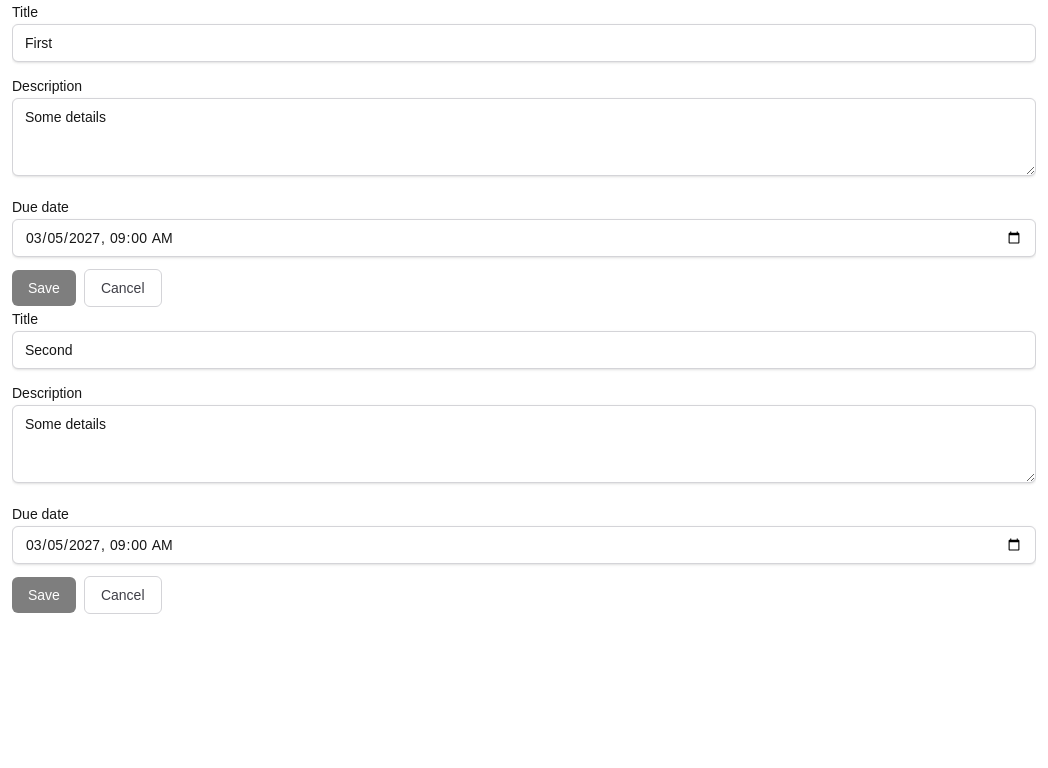
Test: EditTaskForm › structure (AC-2.8, AC-8.4a) › keeps each form’s errors beside its own fields when two forms exist
Step 1. Clear the 1st field labelled "Title" → (524,43), box [12,24,1036,62]
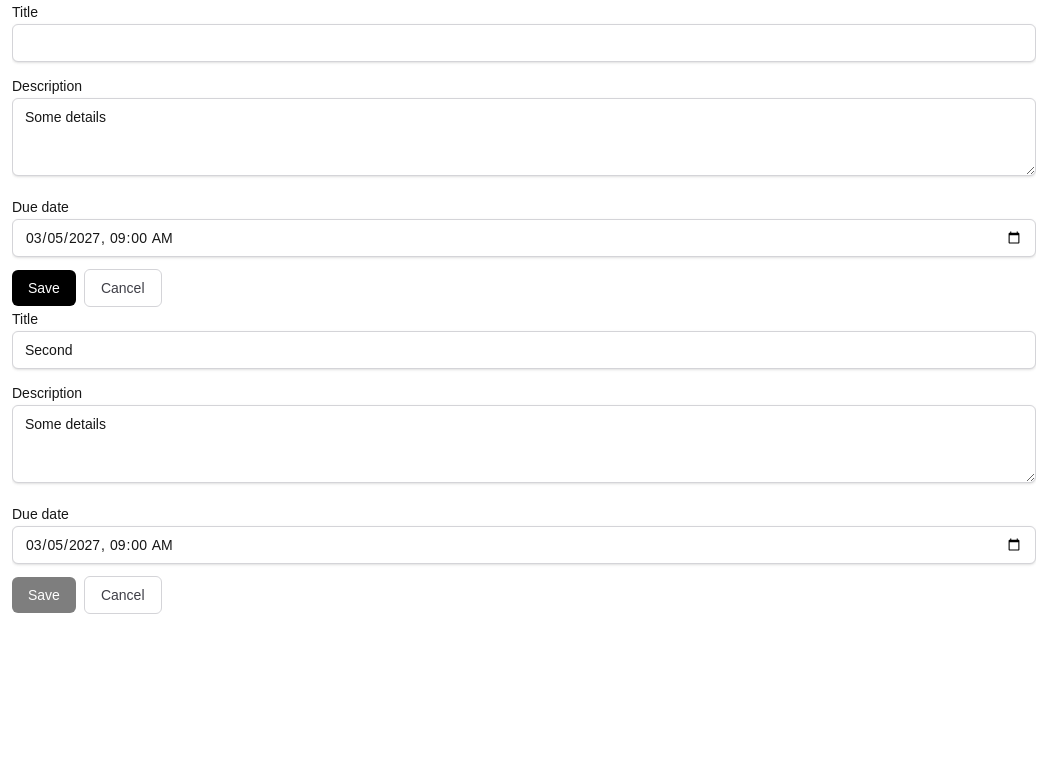
Step 2. Click the 1st button "Save" → (44,288), box [12,270,76,306]
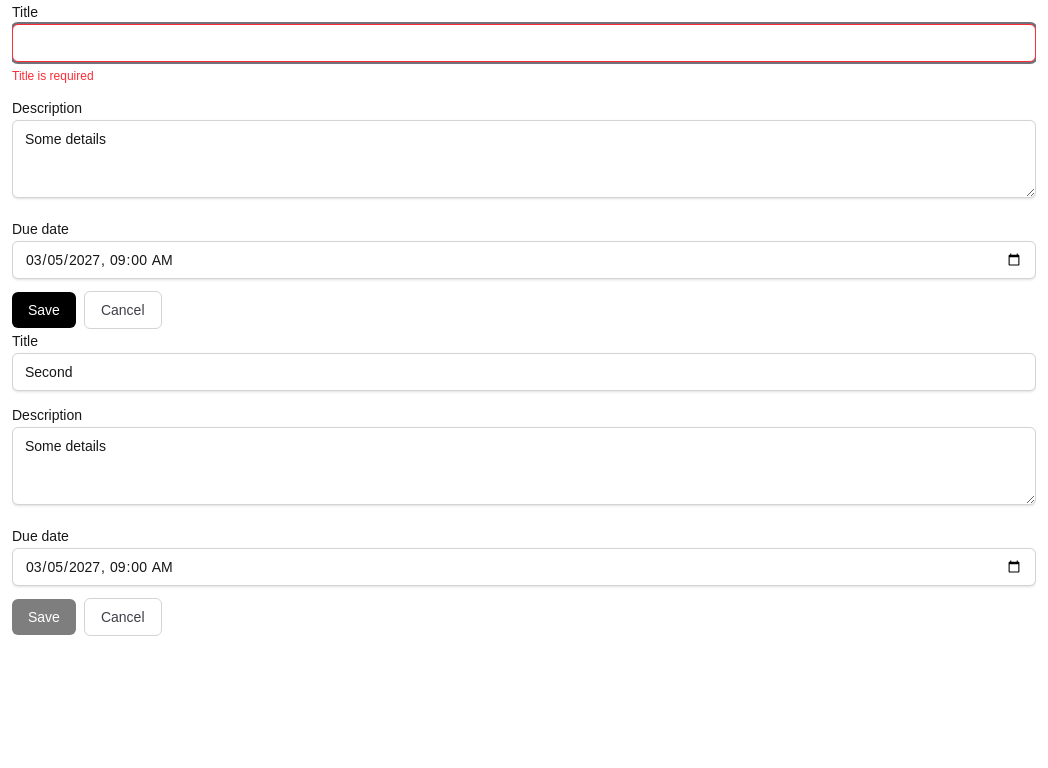
Now the number of messages is 1, box [12,69,94,83]
